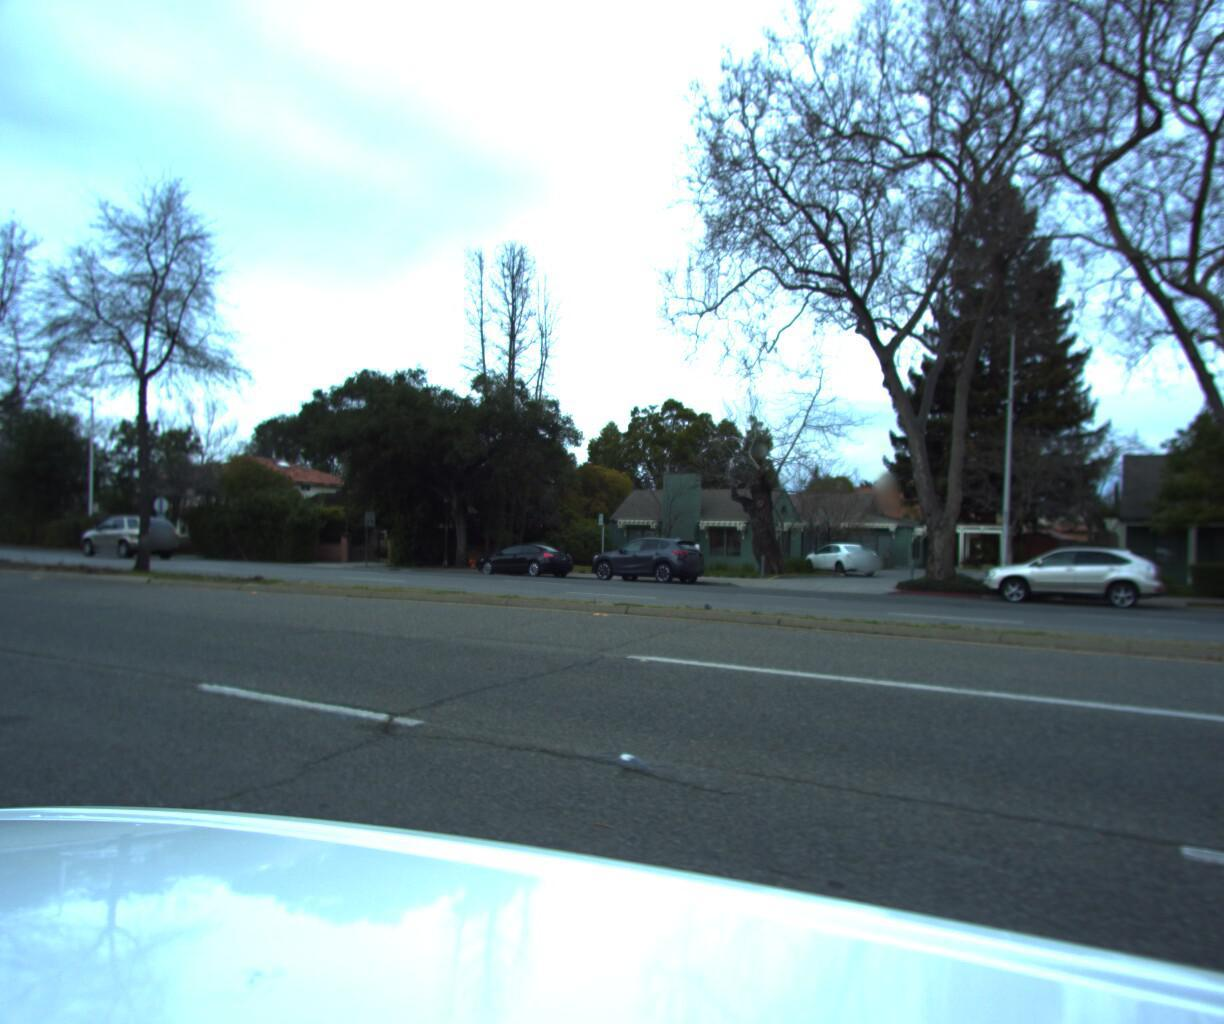car: (977, 542, 1162, 609), (582, 531, 714, 585), (74, 514, 177, 555), (473, 537, 575, 577), (800, 536, 885, 573)
